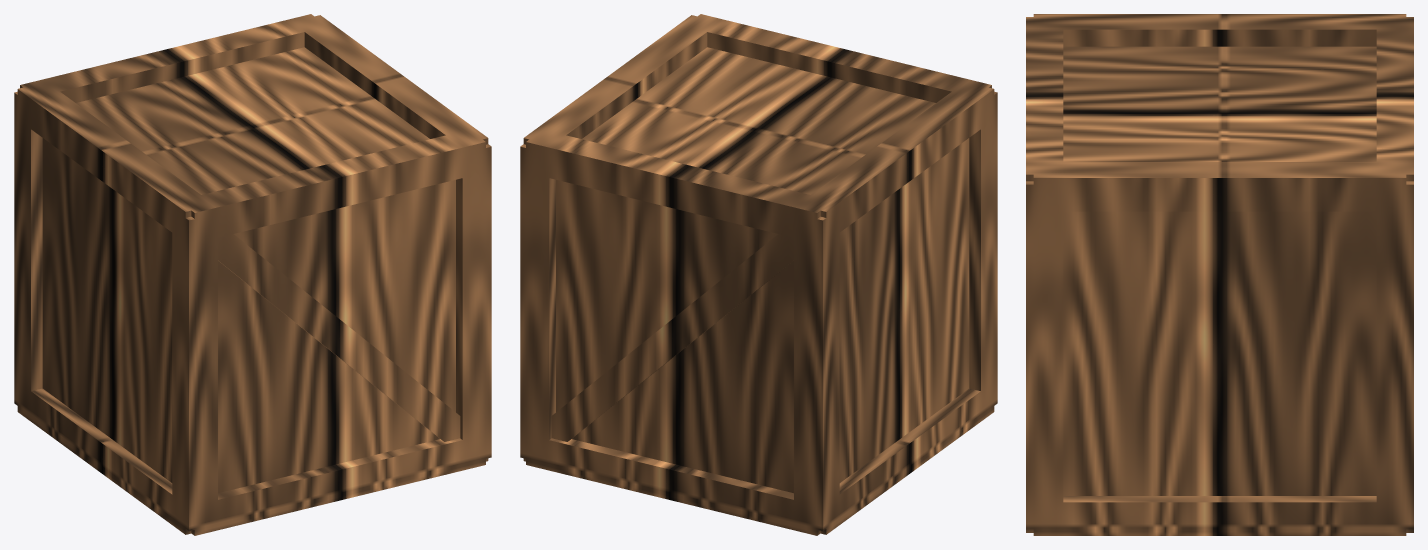
Rendered from crate.obj.
3 renders of one model, left to right at view 1: azimuth 30°, elevation 25°; view 2: azimuth 150°, elevation 25°; view 3: azimuth 270°, elevation 25°, orthographic. The views are drawn at different scales.
Bounding box in the file's own units: 1.04 × 1.06 × 1.04.
2 materials, 2 textured.
